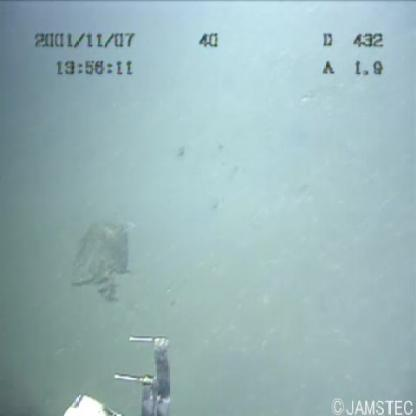Rov: (59, 326, 191, 416)
Rác: (65, 217, 142, 303)
